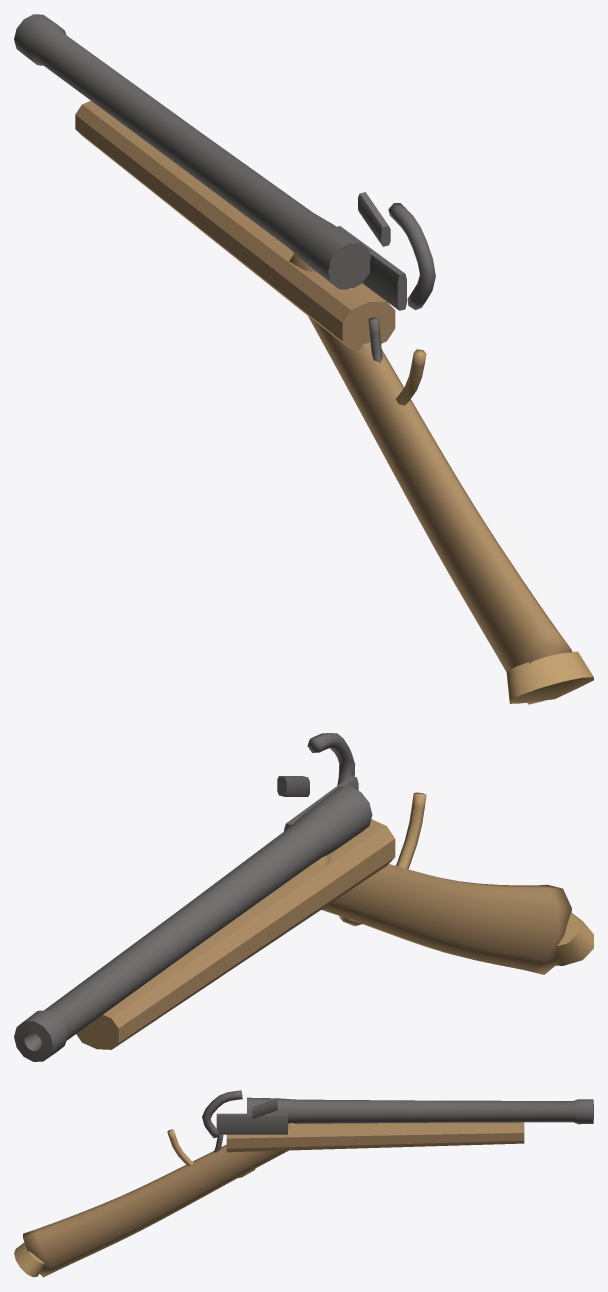
File: pistol.glb
The picture shows the model from 3 angles, top to bottom: view 1: azimuth 30°, elevation 25°; view 2: azimuth 150°, elevation 25°; view 3: azimuth 270°, elevation 25°; orthographic projection. The views are drawn at different scales.
Parts seen in each view (by area): view 1: pistol; view 2: pistol; view 3: pistol.
Boxes of the visible parts, box(x1,y1,x2,y2) form: pistol: box(14, 14, 593, 704); pistol: box(14, 733, 593, 1061); pistol: box(14, 1090, 593, 1277).
Bounding box in the file's own units: 0.1111 × 0.4237 × 1.14.
